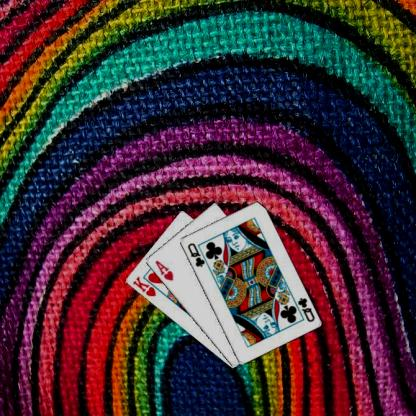AH: (152, 258, 175, 282)
KH: (130, 274, 157, 298)
QC: (184, 240, 206, 268), (295, 295, 316, 323)
